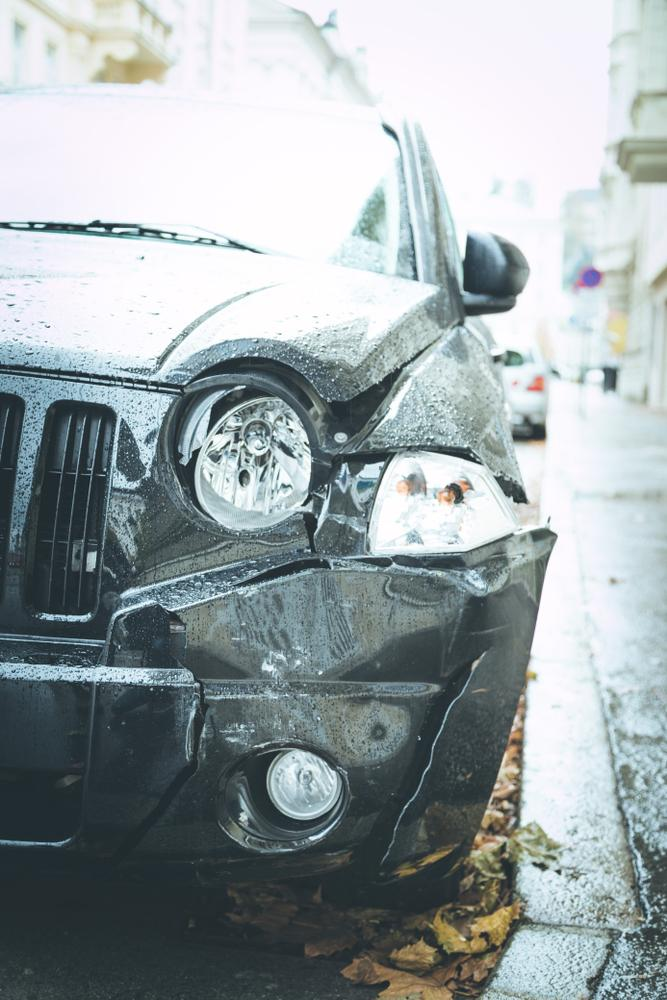crack: (349, 645, 493, 873), (91, 679, 210, 881), (231, 507, 339, 589)
lamp broken: (182, 383, 310, 532), (366, 451, 519, 553)
